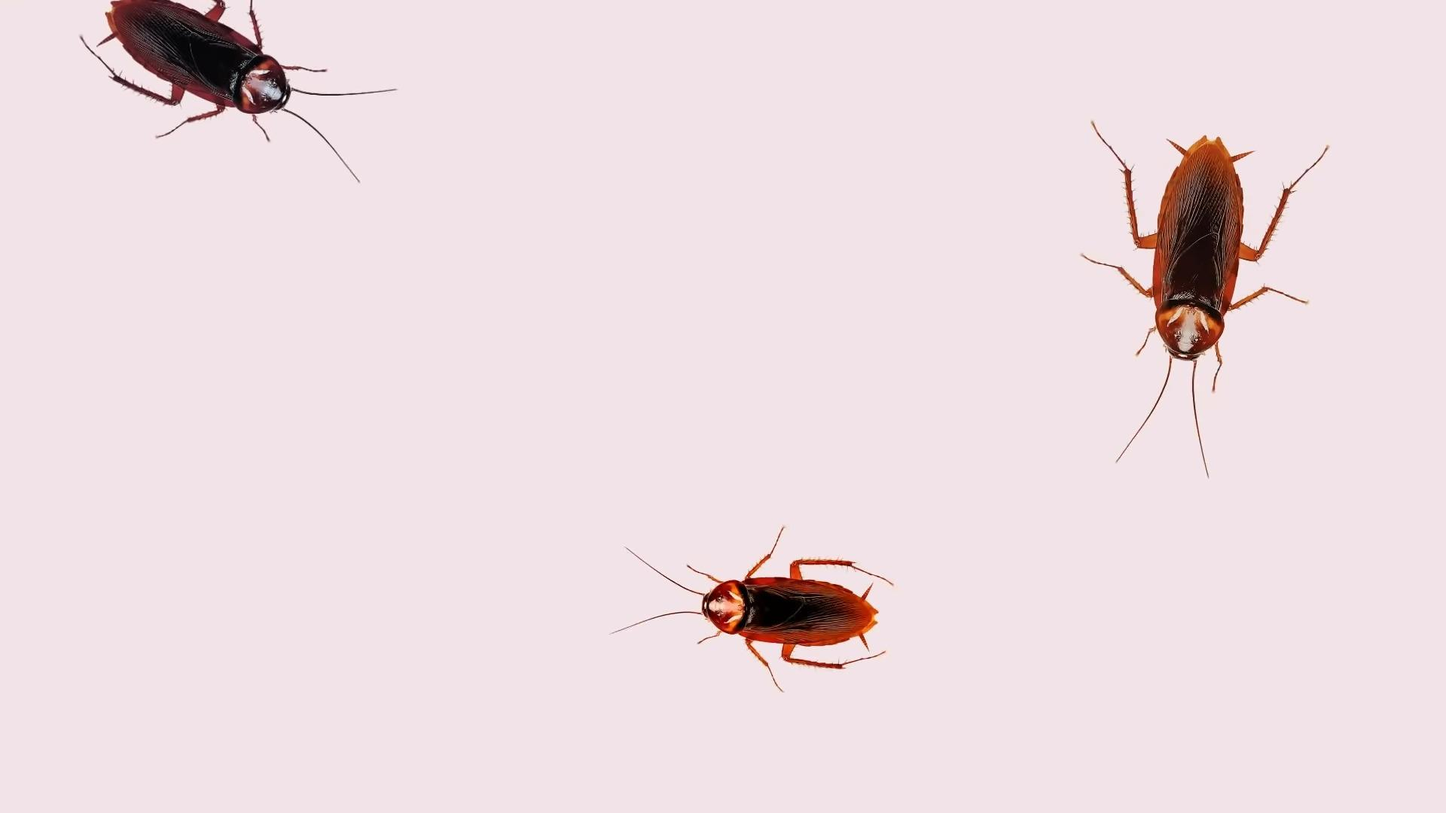cockroach: (1076, 103, 1324, 477), (68, 3, 394, 186), (606, 518, 896, 682)
